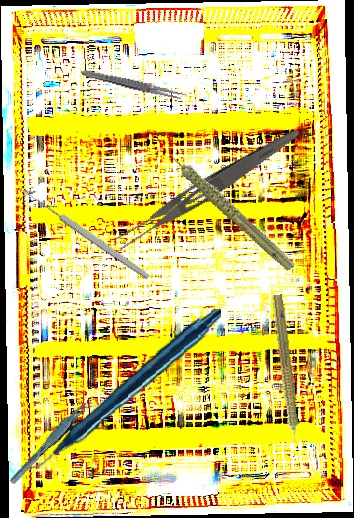Dressing Forceps: (110, 119, 304, 256), (79, 67, 189, 102)
Handpiece: (11, 308, 231, 470), (162, 122, 298, 292), (265, 293, 305, 454)
Surgical Spoon: (21, 186, 151, 281)
Tissue Forceps: (0, 397, 103, 486)
